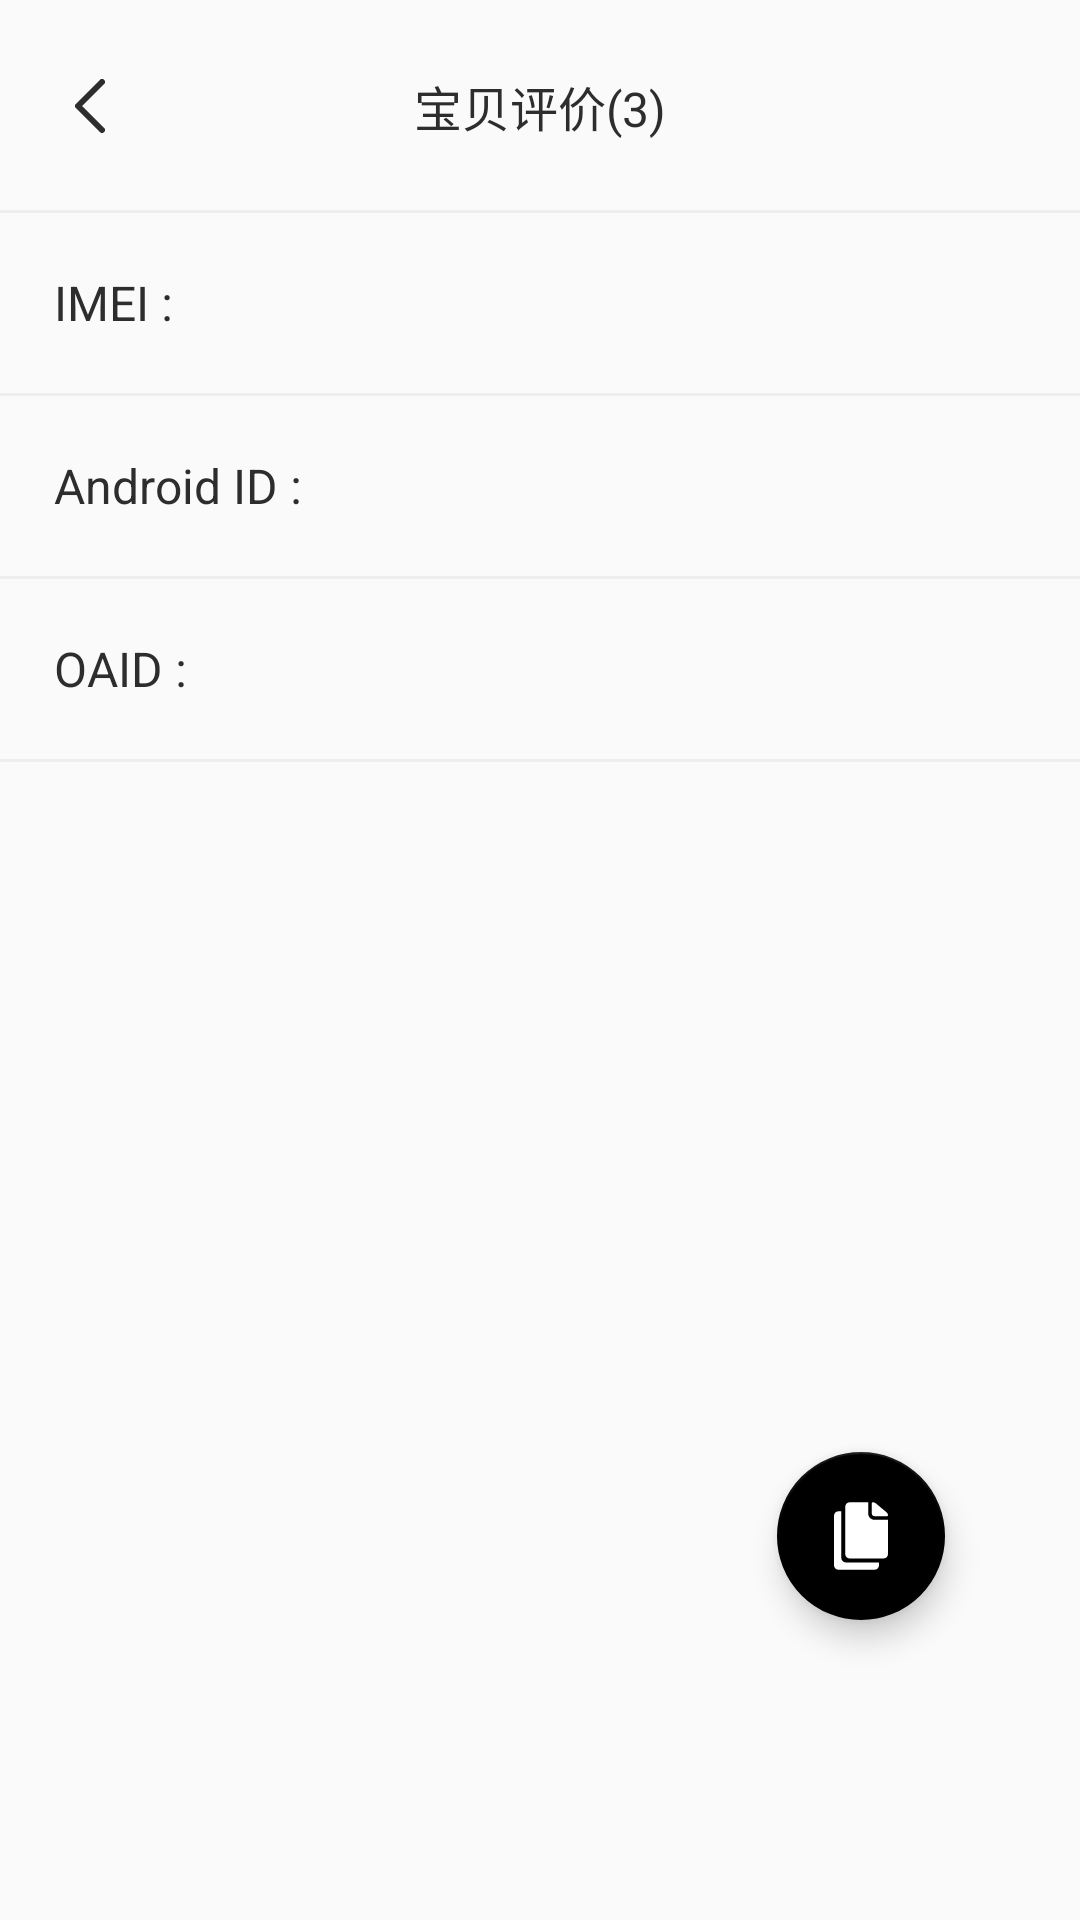

Locate icon controls on the screen. Image size 1080 x 1920, boxes as (x1=x1, y1=y1, x2=x2, y2=y2).
arrow left: (x1=75, y1=79, x2=105, y2=133)
